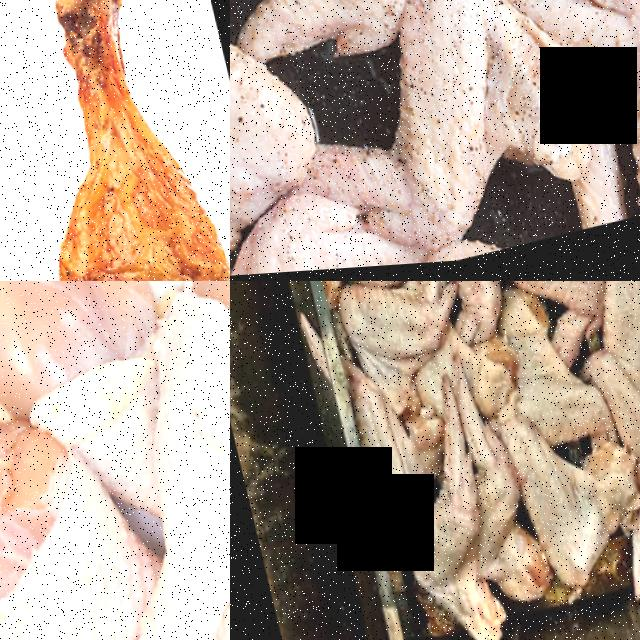chicken thigh: (0, 0, 230, 281), (57, 281, 230, 640), (0, 402, 141, 640)
chicken wing: (262, 0, 598, 270), (504, 403, 640, 605), (230, 0, 320, 258), (449, 398, 540, 626), (388, 479, 501, 640), (339, 369, 443, 534), (331, 281, 469, 380), (474, 281, 601, 330), (574, 281, 640, 362)
